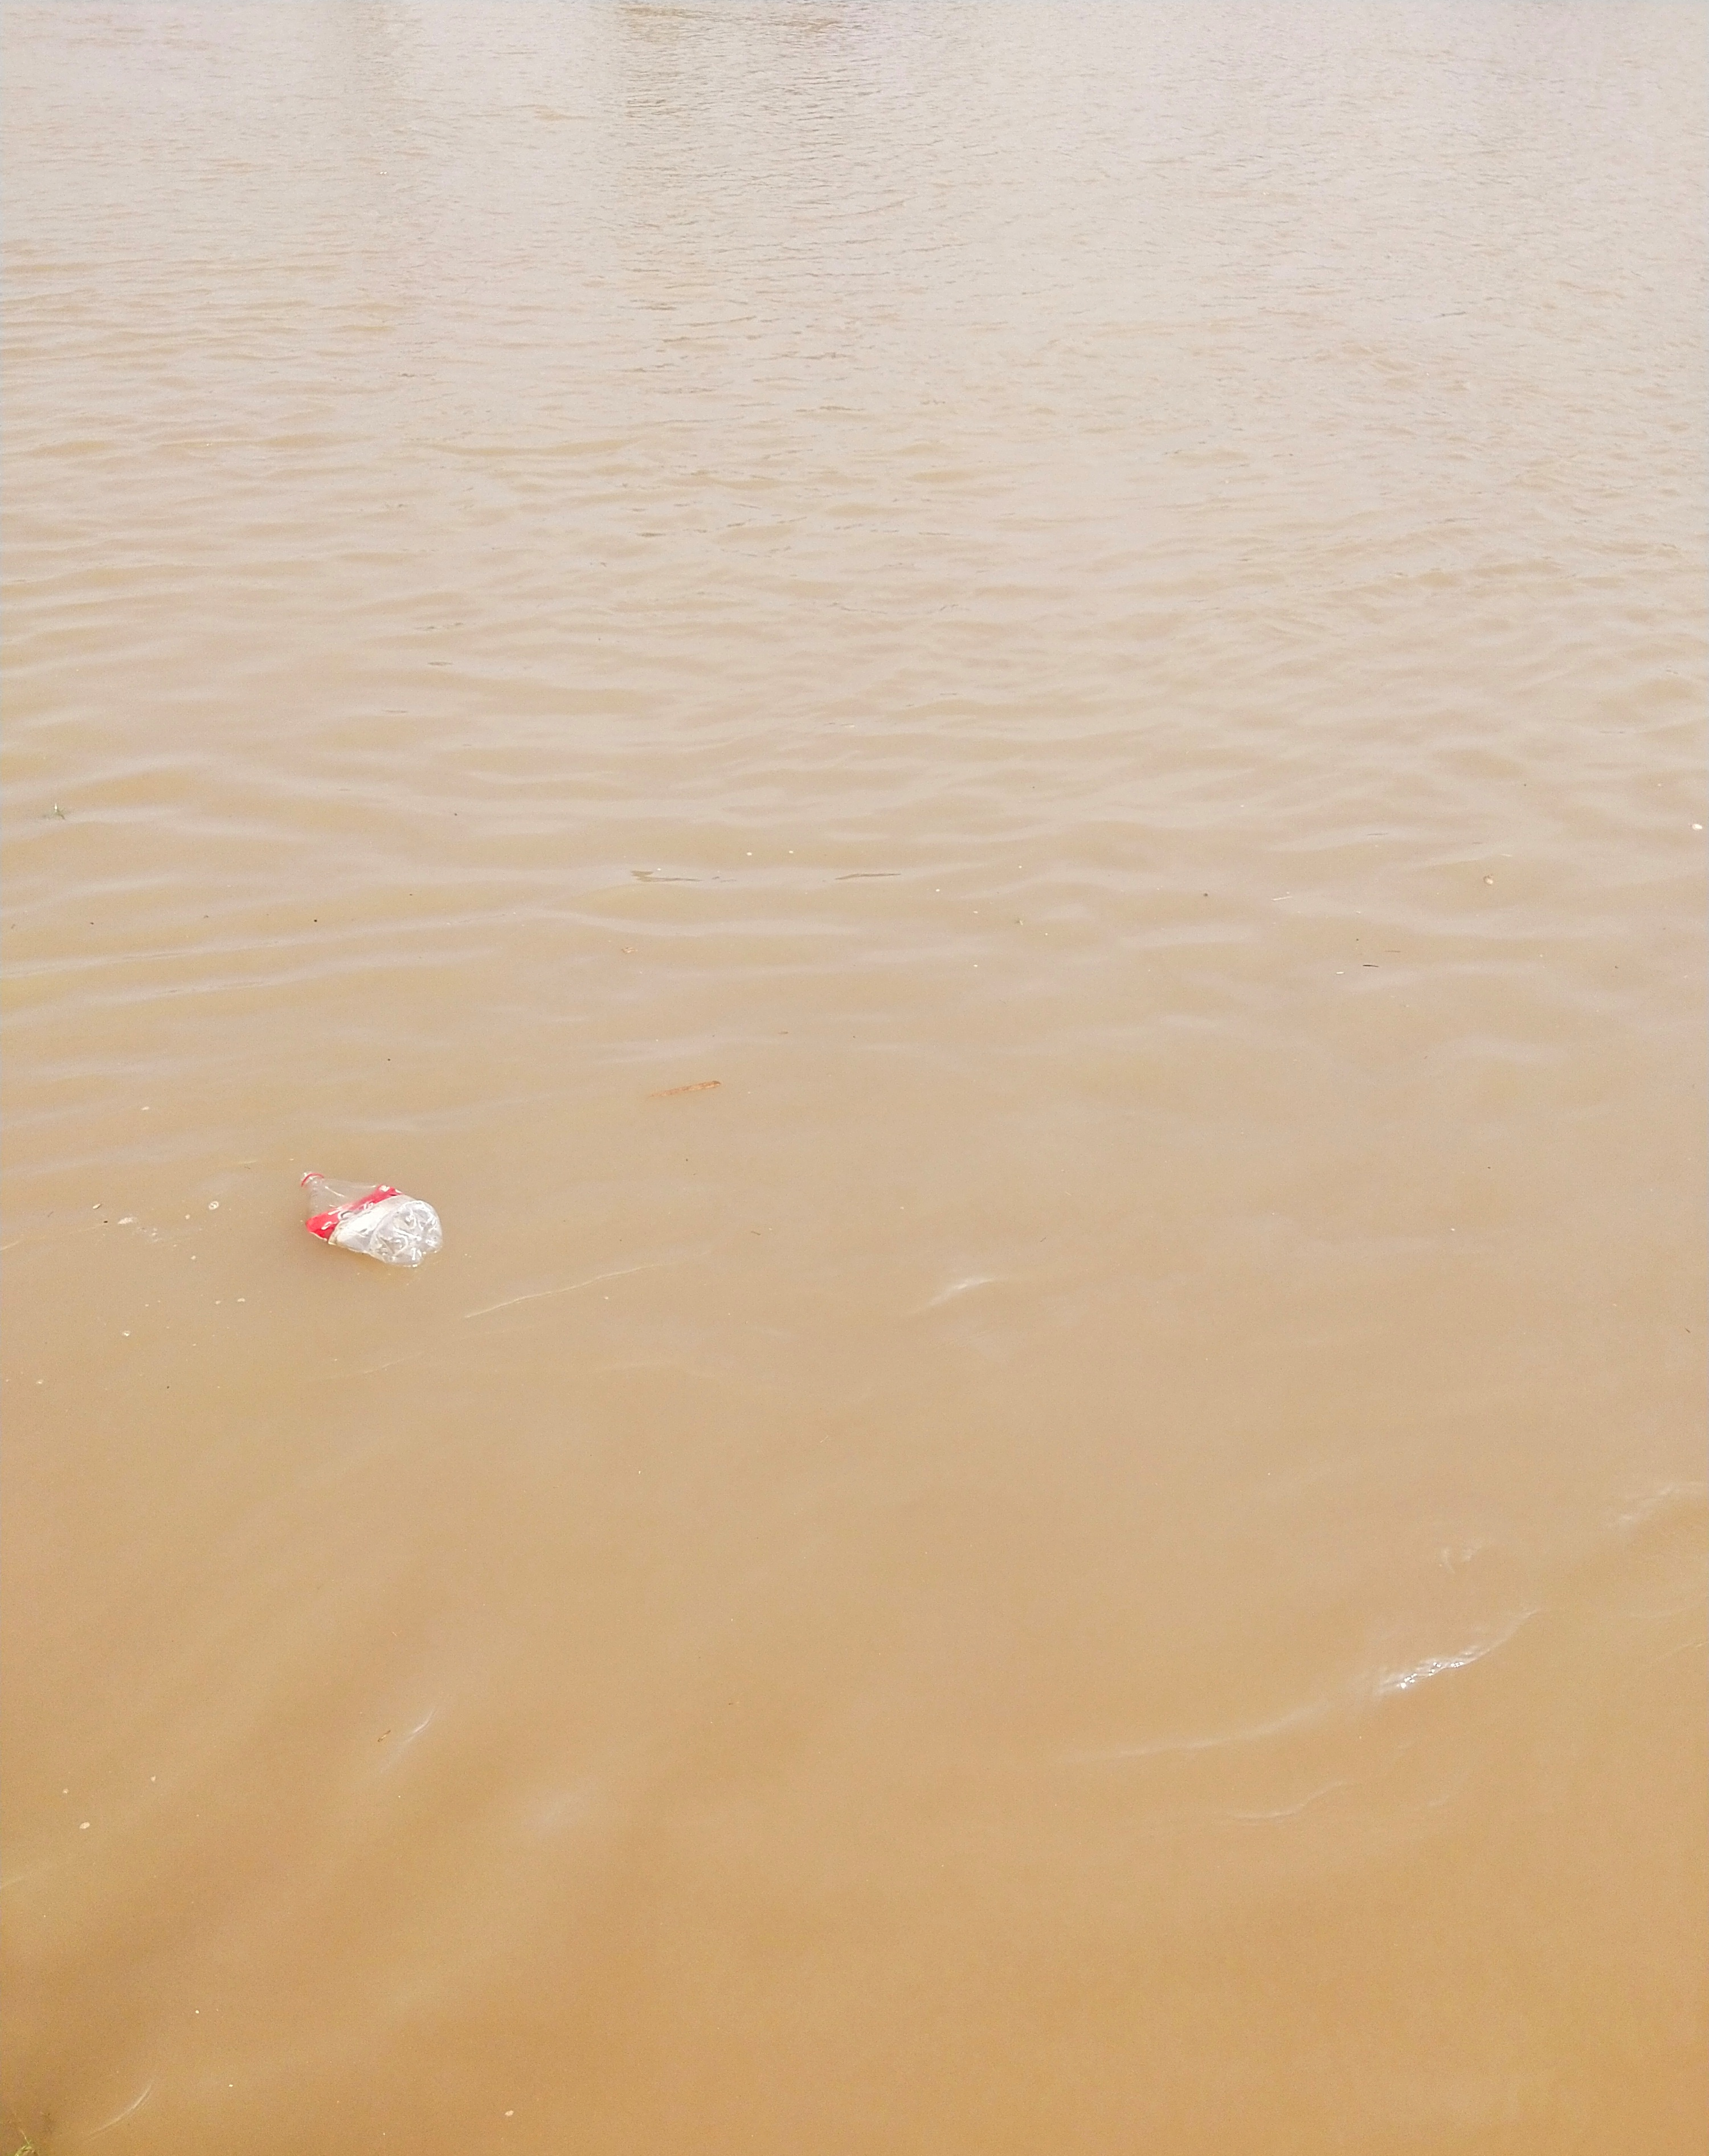Plastic Bottle: (294, 1169, 439, 1264)
